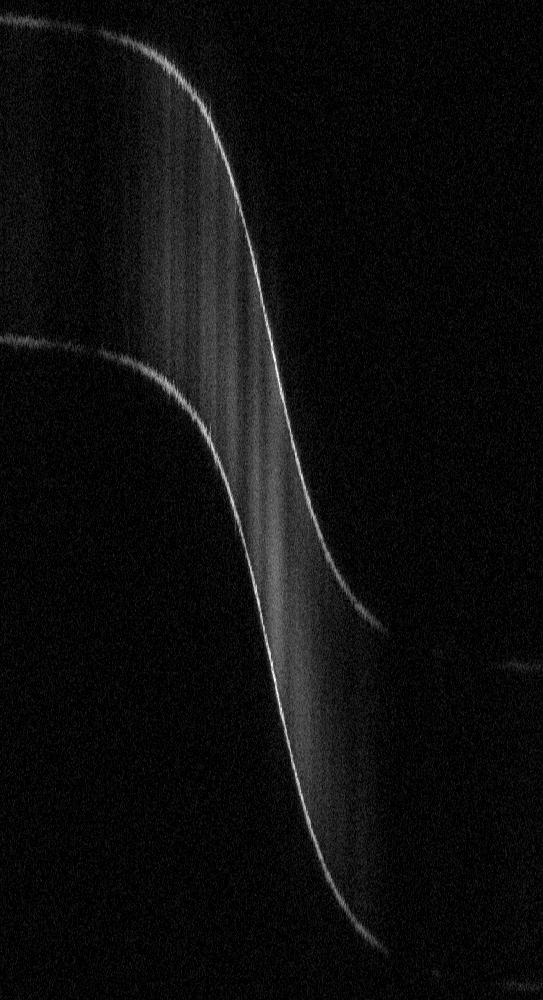signal: (0, 0, 542, 999)
